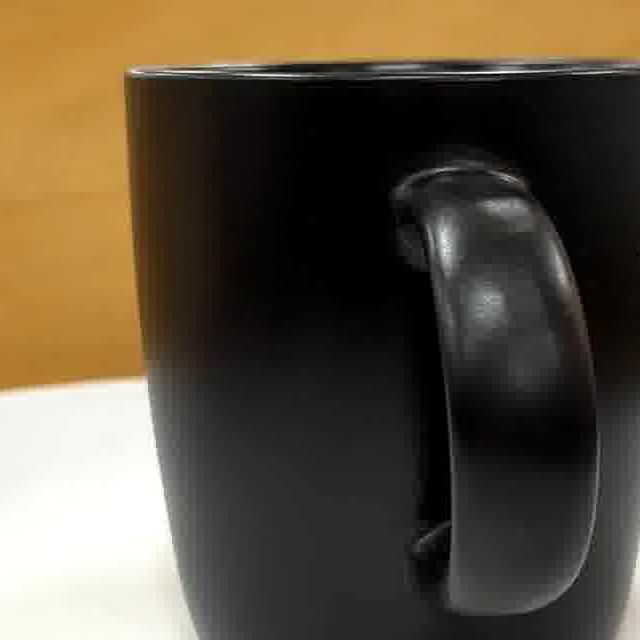cup: (131, 63, 640, 640)
